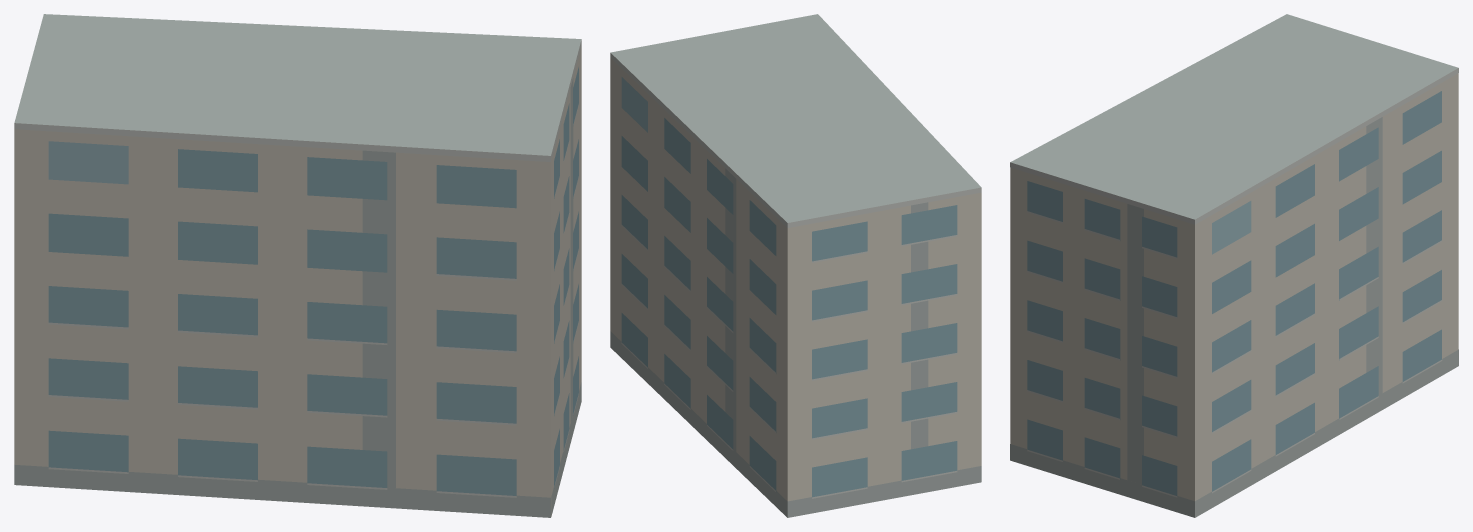
Rendered from survey-upis-32949468.glb.
3 renders of one model, left to right at view 1: azimuth 30°, elevation 25°; view 2: azimuth 150°, elevation 25°; view 3: azimuth 270°, elevation 25°, orthographic. The views are drawn at different scales.
Parts seen in each view (by area): view 1: survey-upis-32949468.tmp; view 2: survey-upis-32949468.tmp; view 3: survey-upis-32949468.tmp.
Part boxes in pixels (box(x1,y1,x2,y2)): survey-upis-32949468.tmp: box(14, 14, 581, 517); survey-upis-32949468.tmp: box(610, 14, 981, 517); survey-upis-32949468.tmp: box(1010, 14, 1458, 517).
Size of the model in its own units: 21.16 by 14.3 by 19.51.
